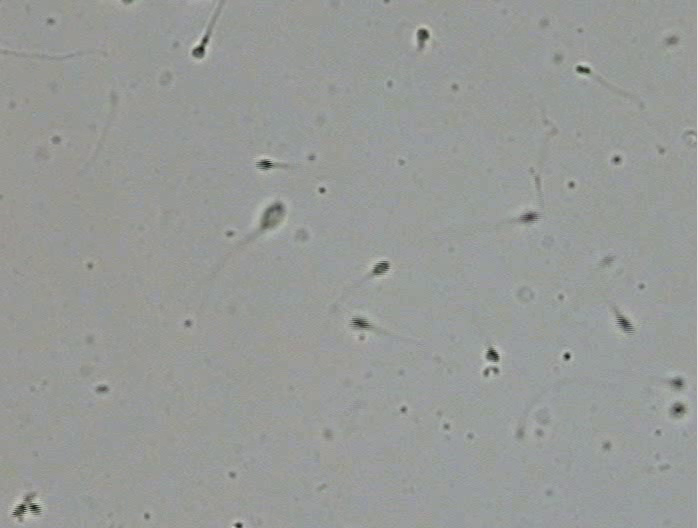S: (261, 201, 285, 230), (616, 313, 635, 333), (349, 317, 371, 330), (372, 260, 391, 275), (485, 347, 500, 363), (520, 211, 540, 223), (11, 503, 27, 517), (28, 501, 42, 516), (255, 159, 273, 170), (416, 28, 430, 42), (192, 45, 205, 59), (575, 65, 591, 75), (671, 404, 684, 416), (672, 377, 684, 388)
